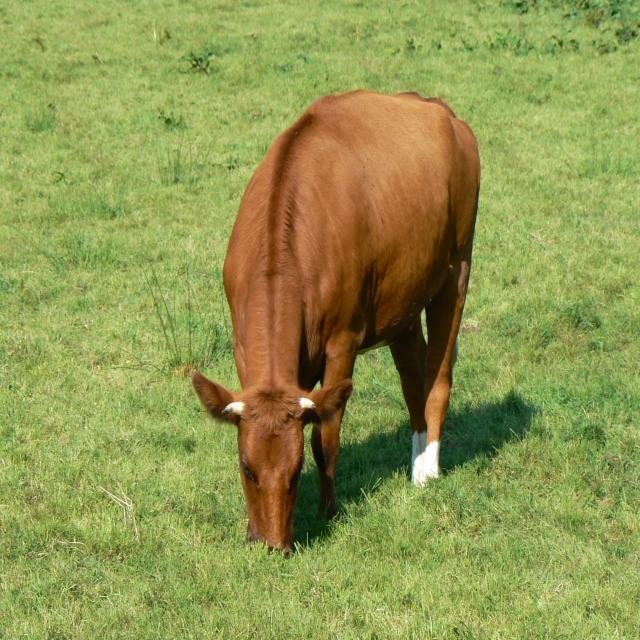cow: (192, 90, 480, 550)
